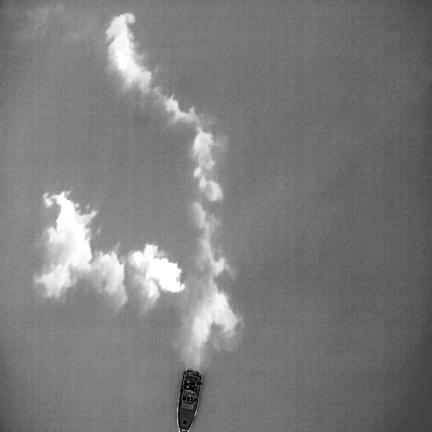flukeprints: (37, 192, 95, 295), (129, 245, 184, 302), (89, 251, 126, 305)
